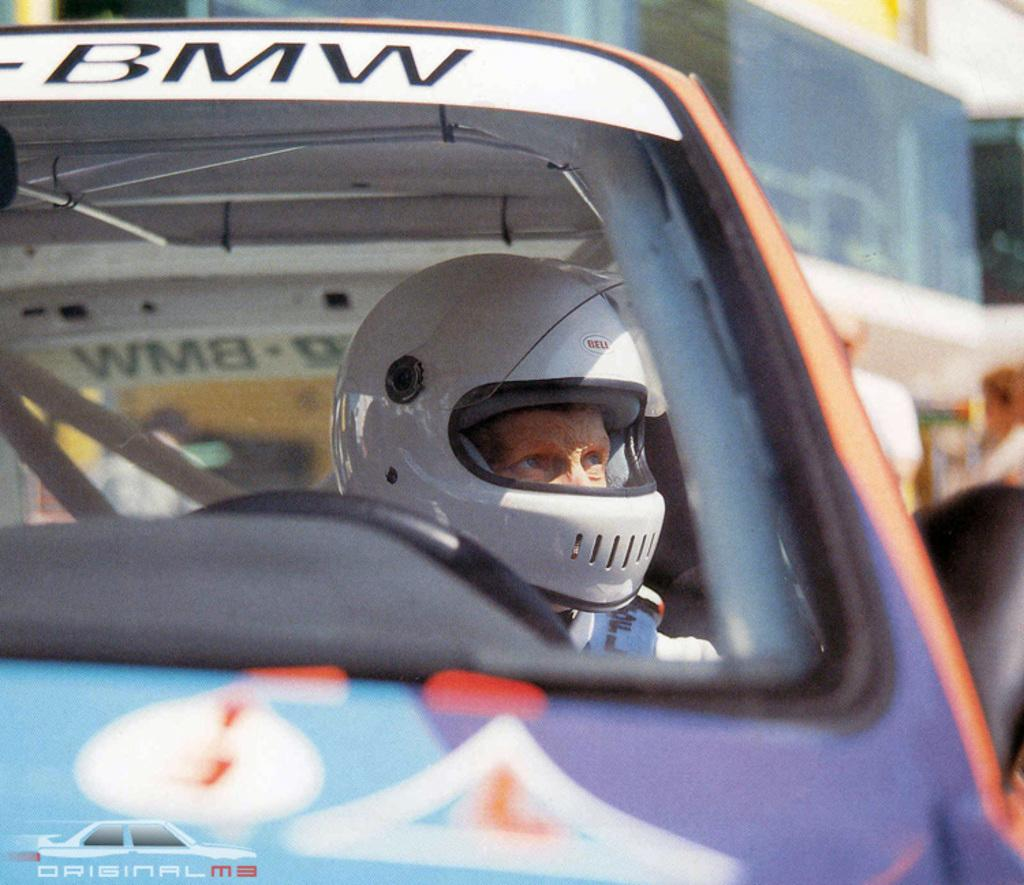helmet: (328, 252, 666, 615)
